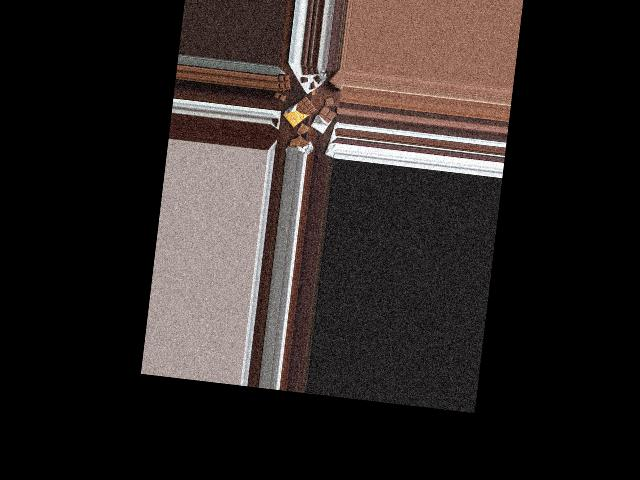chocolate: (309, 105, 338, 133)
